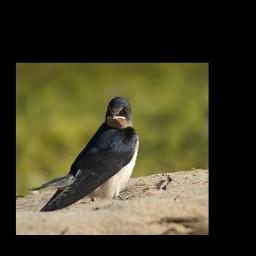Swallow: (27, 96, 139, 211)
